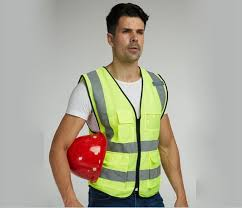hard hat: (65, 134, 107, 182)
high-vis: (85, 66, 168, 197)
